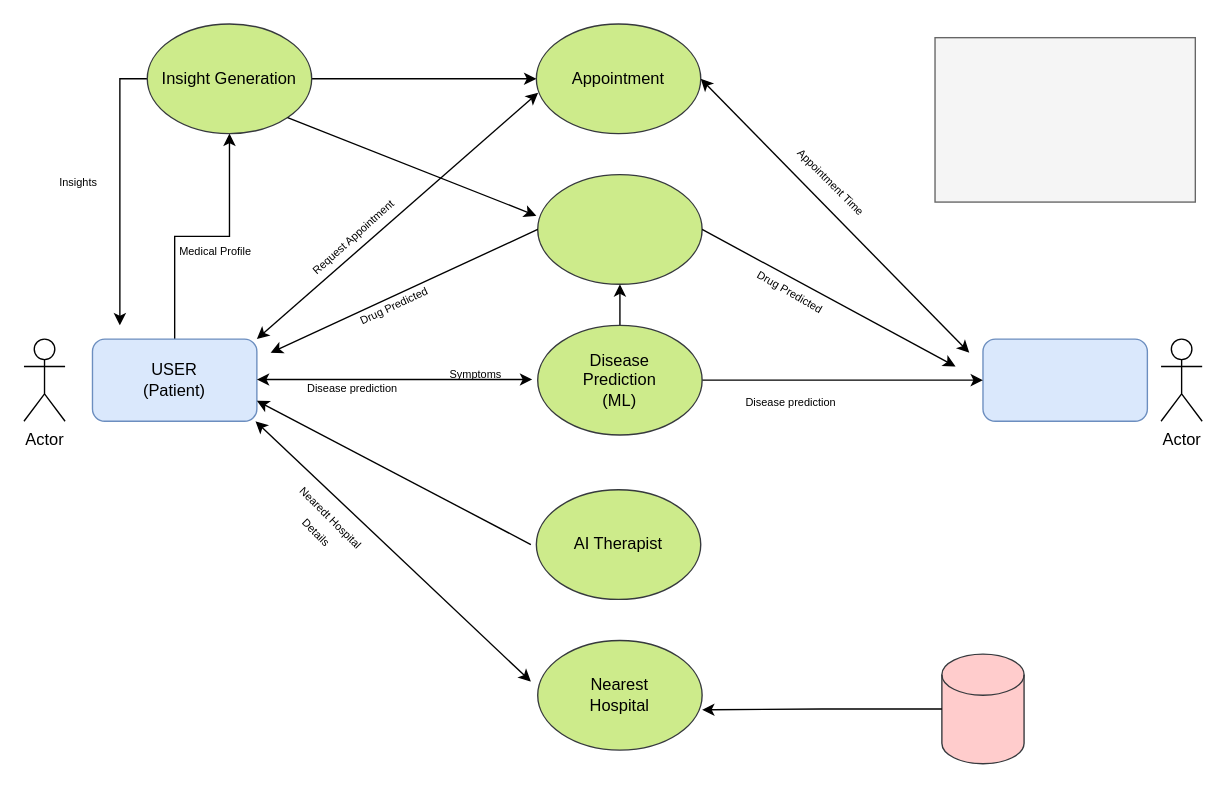
Image size: 1226x788. Some labels were removed from this diagram. The shapes that lost their labels are listed below. From the top down, each one's centre as x and y in pixels, then its label:
point 1064,119: Level 1 There are two main catagories of users , the doctor and the patient
point 619,228: Drug Recomendation (ML)
point 1064,379: USER (Doctor)
point 982,708: Hospitals Dataset
